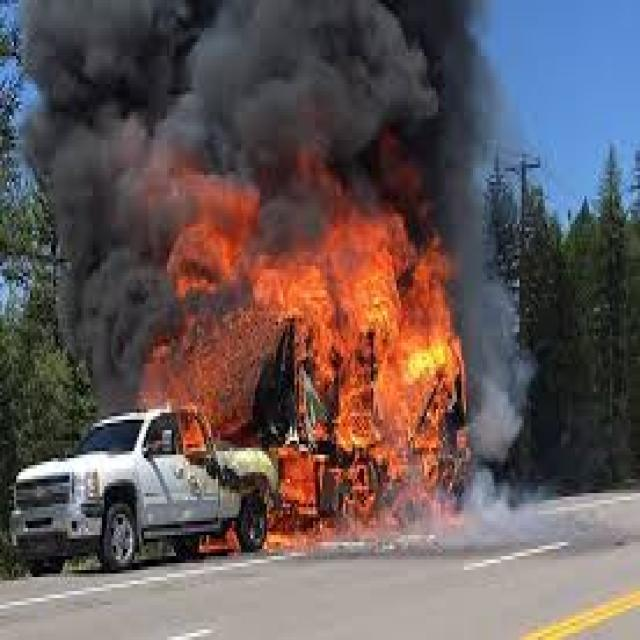Fire: (336, 239, 432, 404)
Smoke: (46, 10, 430, 132), (59, 145, 154, 332), (468, 234, 534, 479)
